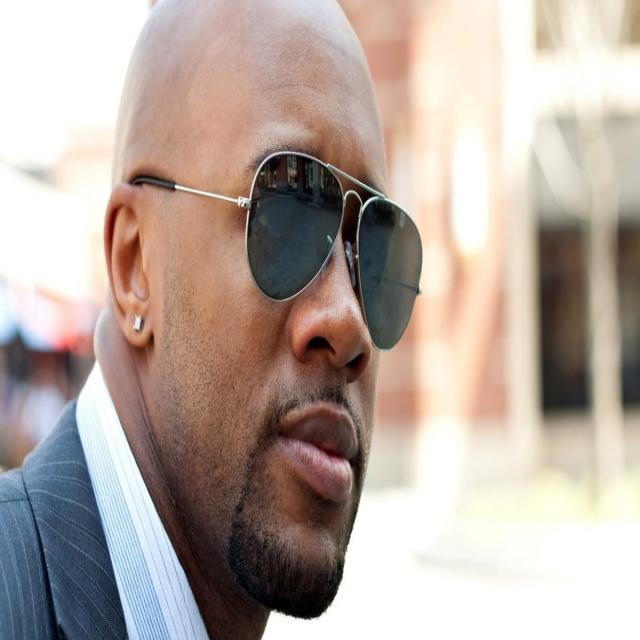beard: (227, 384, 370, 618)
